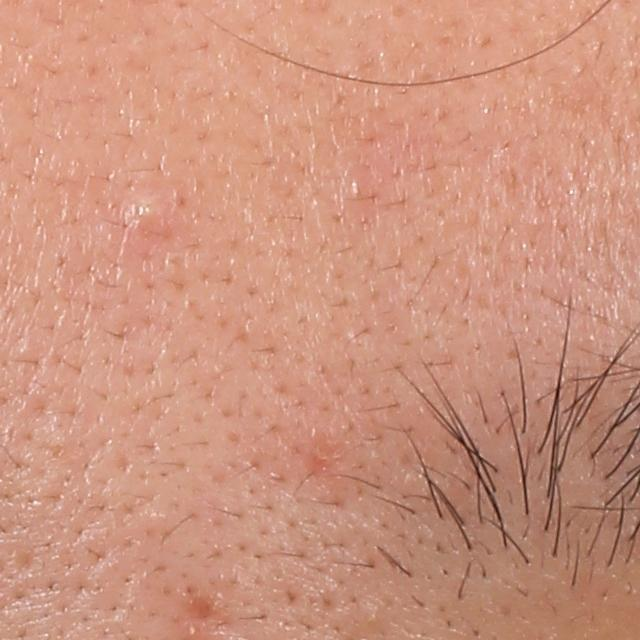comedo: (347, 178, 367, 204)
papule: (113, 187, 169, 247)
